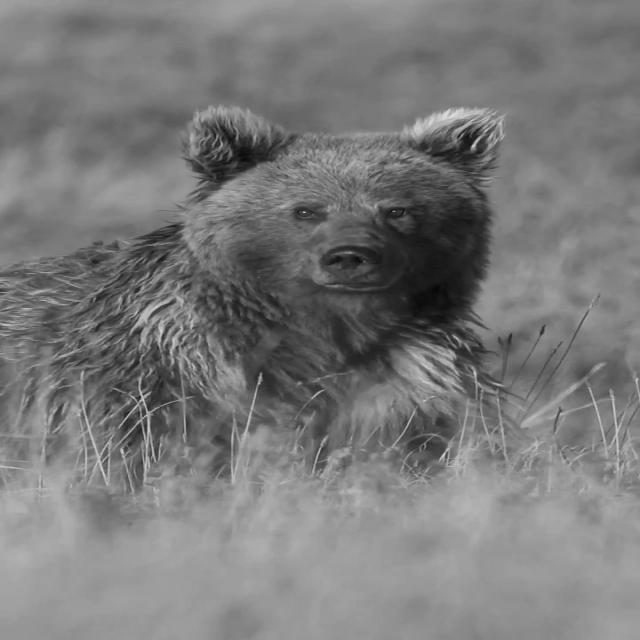Bear: (0, 103, 524, 502)
